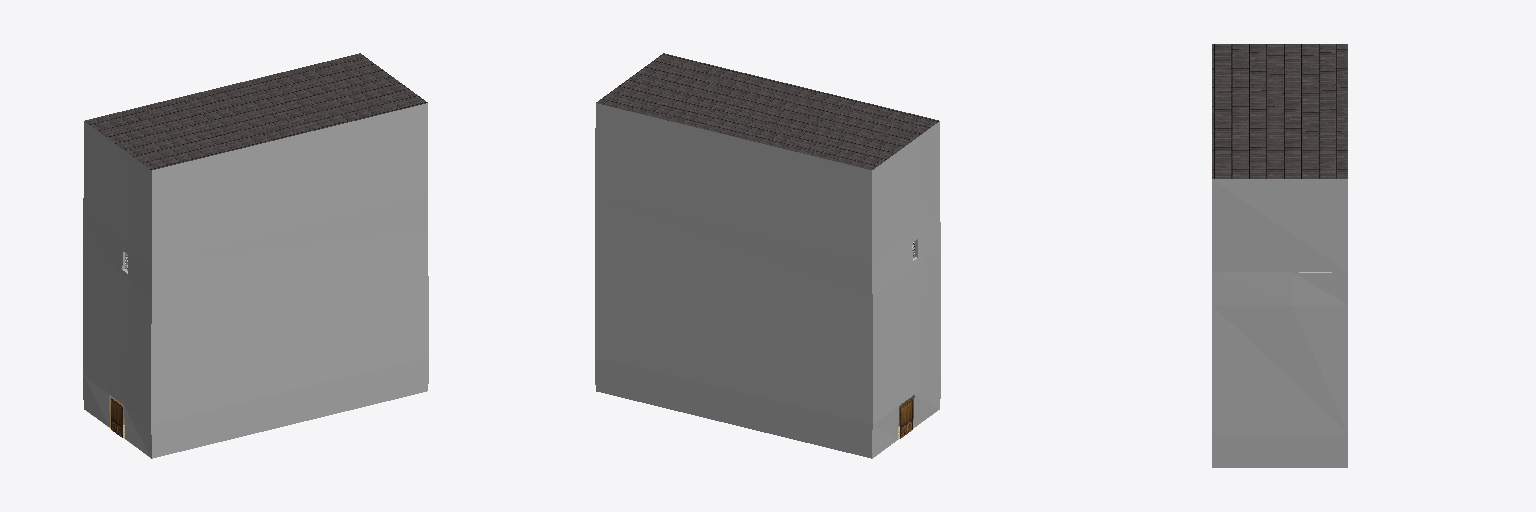
The picture shows the model from 3 angles: view 1: azimuth 30°, elevation 25°; view 2: azimuth 150°, elevation 25°; view 3: azimuth 270°, elevation 25°; orthographic projection.
Visible parts, largest first — view 1: buildingSPECIAL.001; view 2: buildingSPECIAL.001; view 3: buildingSPECIAL.001.
Part boxes in pixels (left/top/right/bottom): buildingSPECIAL.001: left=83, top=53, right=428, bottom=458; buildingSPECIAL.001: left=595, top=53, right=940, bottom=458; buildingSPECIAL.001: left=1212, top=44, right=1347, bottom=467.
Bounding box in the file's own units: 48.33 × 47.89 × 20.55.
Materials: 11 (5 with a texture image).